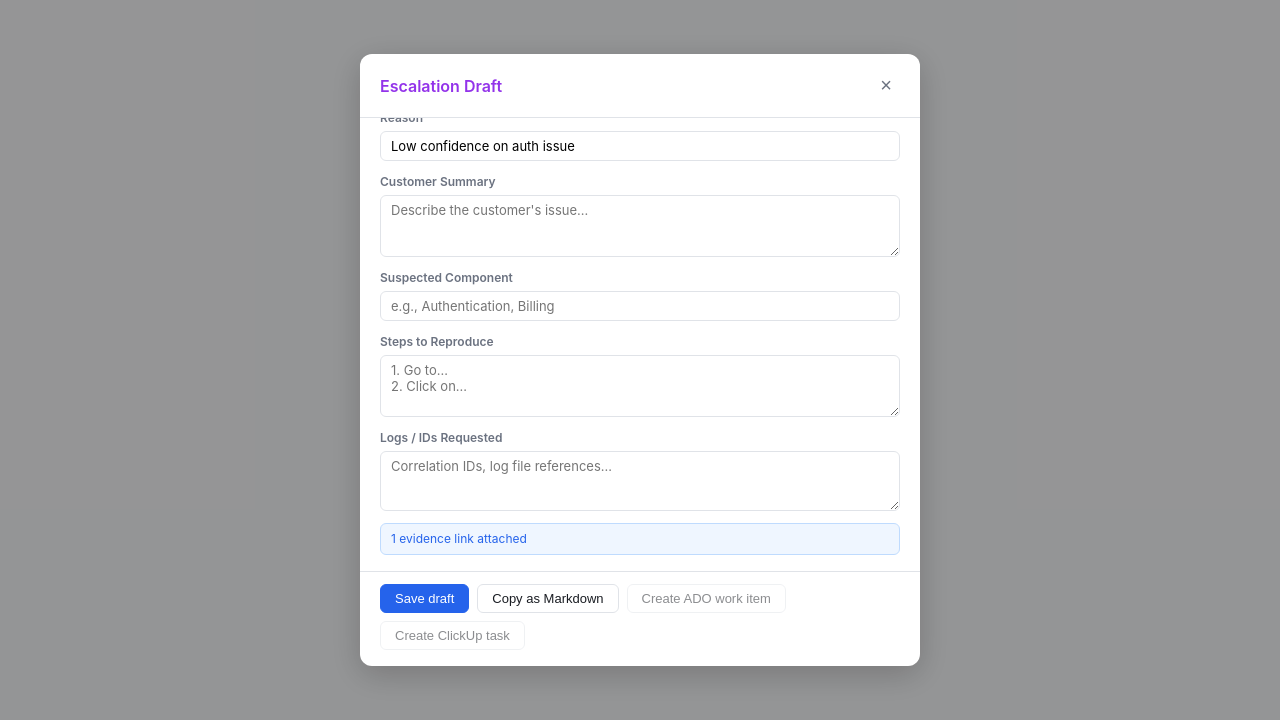
Scenario: EscalationDraftModal › shows "Copied!" after successful copy
This screenshot has width=1280, height=720.
(page scrolled)
Click the button with test id "draft-copy-markdown". click: (548, 598)
box: [477,584,619,613]
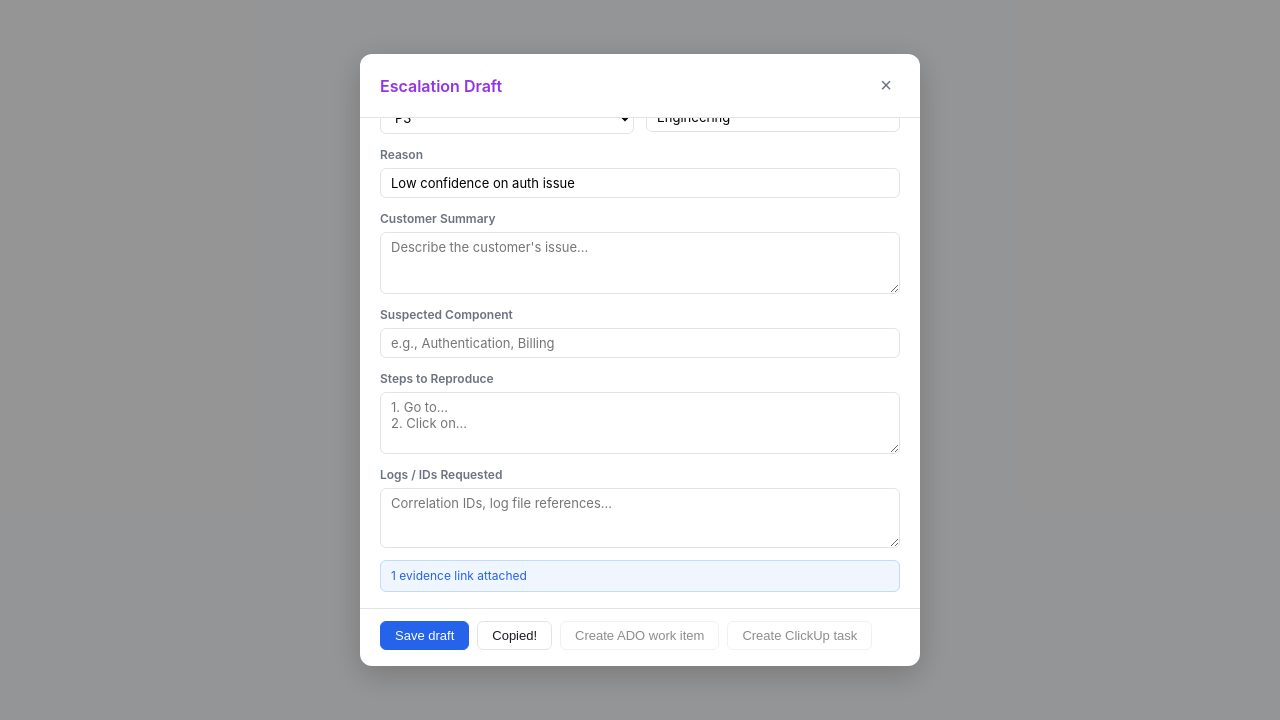
Expected: the button with test id "draft-copy-markdown" reads "Copied!", [477,621,552,650]
